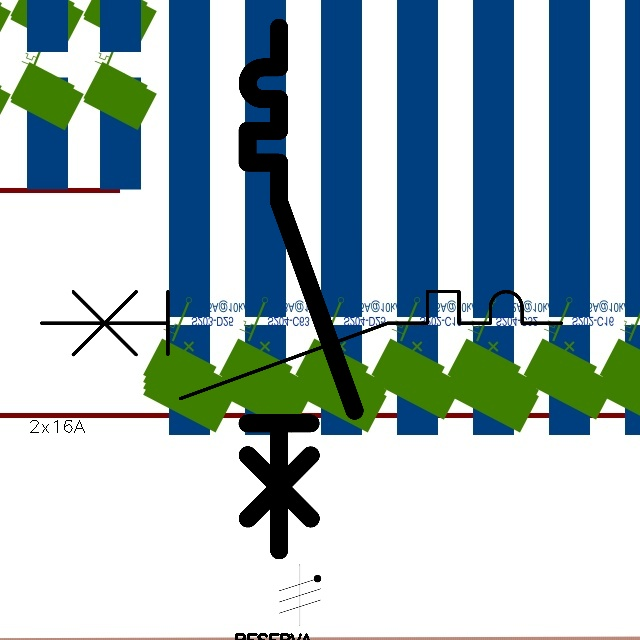interruptor_termomagnetico: (234, 14, 368, 563), (28, 278, 575, 412)
